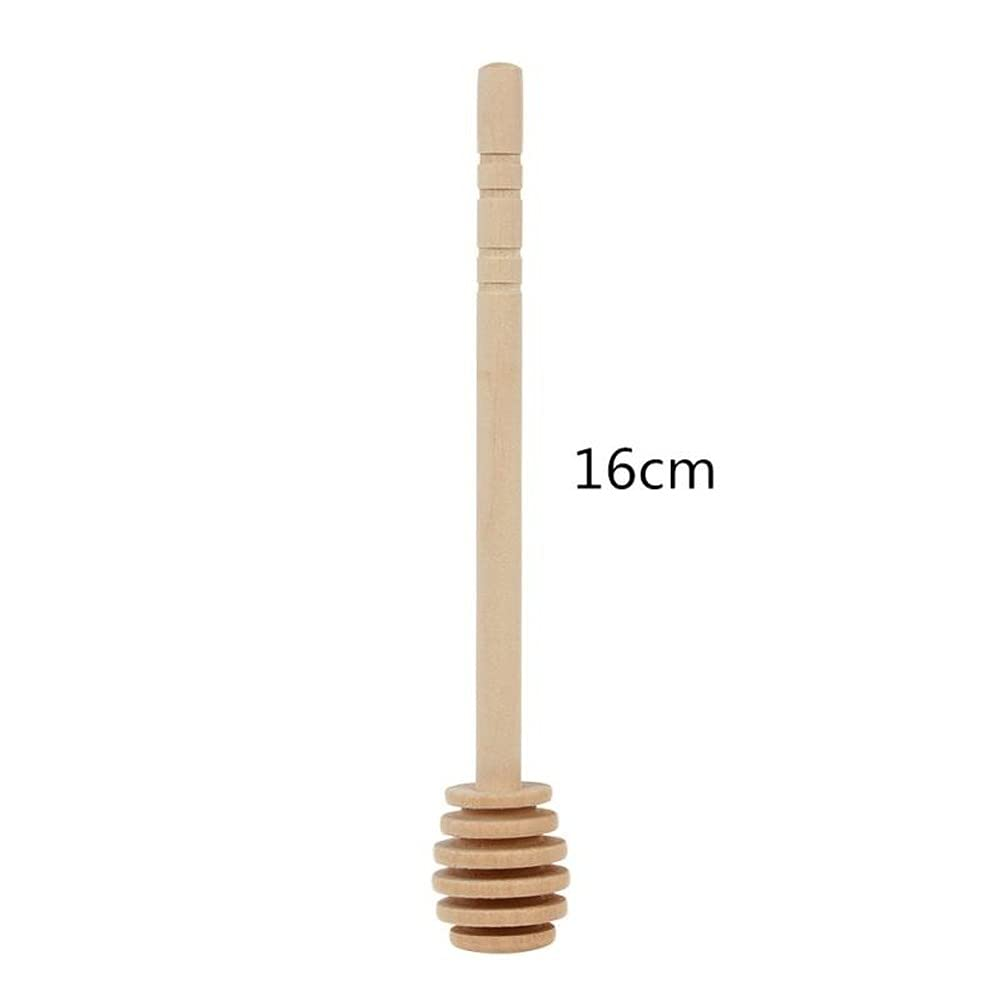16cm: (576, 447, 714, 490)
